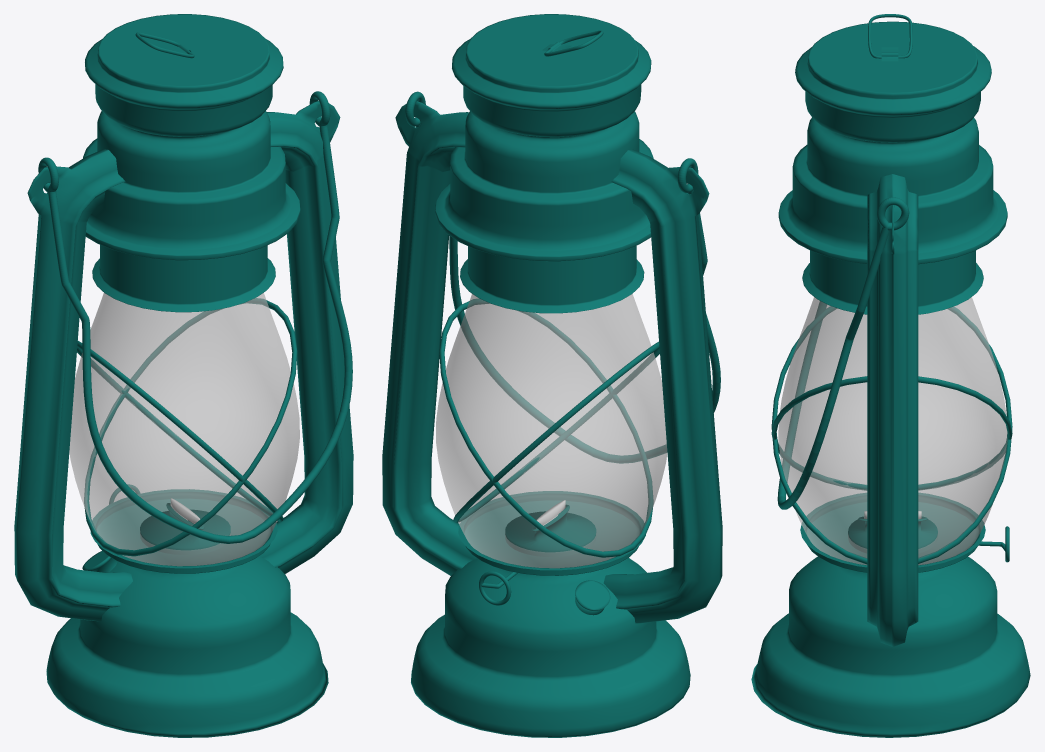
File: lamp.glb
3 views of the same model, side by side, from view 1: azimuth 30°, elevation 25°; view 2: azimuth 150°, elevation 25°; view 3: azimuth 270°, elevation 25° (orthographic).
Visible parts, largest first — view 1: Cylinder.003_0, Vert.002_5; view 2: Cylinder.003_0, Vert.002_5, BezierCircle.003_6; view 3: Cylinder.003_0, Vert.002_5, BezierCircle.002_4.
Part boxes in pixels (left/top/right/bottom): Cylinder.003_0: left=14, top=14, right=353, bottom=737; Vert.002_5: left=38, top=91, right=352, bottom=543; Cylinder.003_0: left=382, top=14, right=722, bottom=737; Vert.002_5: left=405, top=91, right=720, bottom=463; BezierCircle.003_6: left=479, top=571, right=517, bottom=605; Cylinder.003_0: left=751, top=21, right=1030, bottom=737; Vert.002_5: left=777, top=197, right=909, bottom=509; BezierCircle.002_4: left=868, top=14, right=912, bottom=58.
Bounding box in the file's own units: 40.21 × 74.81 × 29.41.
